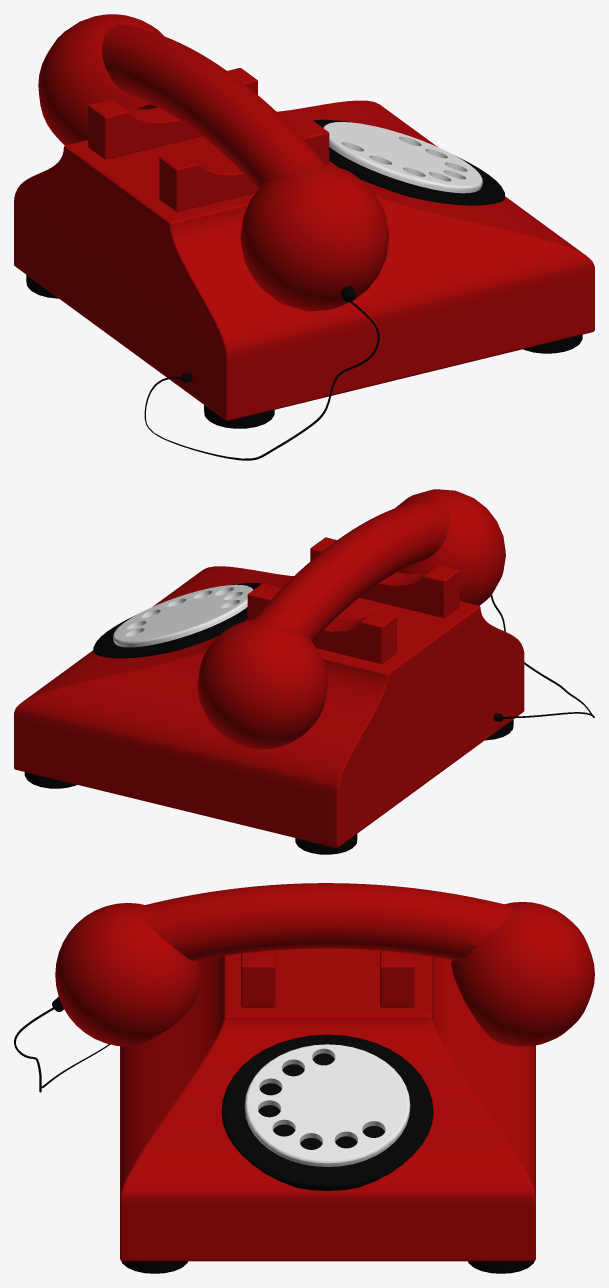
File: PhoneCombine2.fbx
The picture shows the model from 3 angles, top to bottom: view 1: azimuth 30°, elevation 25°; view 2: azimuth 150°, elevation 25°; view 3: azimuth 270°, elevation 25°; orthographic projection. The views are drawn at different scales.
Parts seen in each view (by area): view 1: pSphere6; view 2: pSphere6; view 3: pSphere6.
Part boxes in pixels (x1,y1,x2,y2): pSphere6: (14,14,594,460); pSphere6: (14,489,594,854); pSphere6: (14,883,594,1273).
Size of the model in its own units: 14.58 by 8.19 by 16.77.
